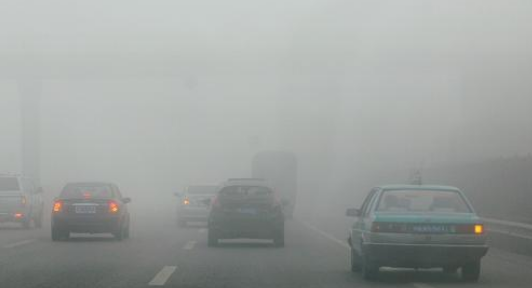bus: (249, 148, 298, 221)
car: (343, 181, 491, 282), (200, 178, 290, 248), (47, 180, 132, 240), (172, 180, 230, 228), (1, 172, 44, 230)
